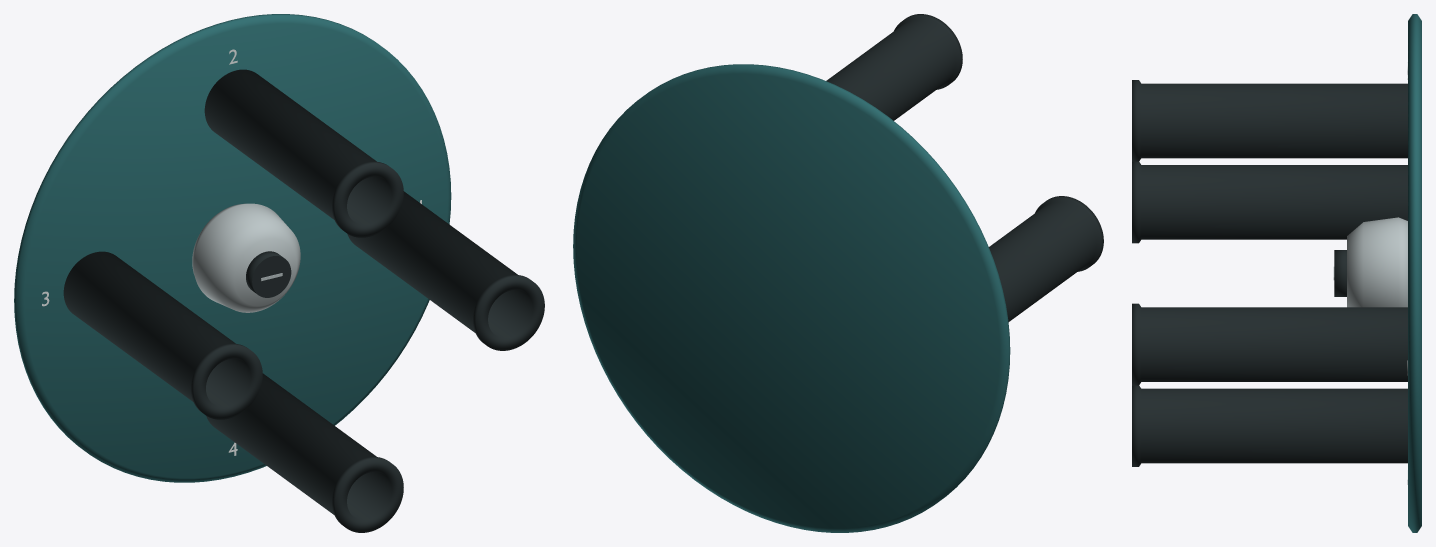
File: centrifuge_rotor.glb
3 views of the same model, side by side, from view 1: azimuth 30°, elevation 25°; view 2: azimuth 150°, elevation 25°; view 3: azimuth 270°, elevation 25° (orthographic). The views are drawn at different scales.
Visible parts, largest first — view 1: Centrifuge balanced rotor plate, Centrifuge C2 hollow sleeve, Centrifuge C3 hollow sleeve, Centrifuge C1 hollow sleeve, Centrifuge C4 hollow sleeve, Centrifuge central hub, Centrifuge hub fastener; view 2: Centrifuge balanced rotor plate, Centrifuge C3 hollow sleeve, Centrifuge C2 hollow sleeve; view 3: Centrifuge C2 hollow sleeve, Centrifuge C4 hollow sleeve, Centrifuge C1 hollow sleeve, Centrifuge C3 hollow sleeve, Centrifuge balanced rotor plate, Centrifuge central hub, Centrifuge hub fastener.
Boxes of the visible parts, x1,y1,x2,y2 form: Centrifuge balanced rotor plate: [14, 14, 451, 482]; Centrifuge C2 hollow sleeve: [204, 69, 403, 237]; Centrifuge C3 hollow sleeve: [63, 251, 262, 419]; Centrifuge C1 hollow sleeve: [347, 191, 544, 350]; Centrifuge C4 hollow sleeve: [206, 373, 403, 532]; Centrifuge central hub: [192, 203, 300, 312]; Centrifuge hub fastener: [246, 251, 291, 297]; Centrifuge balanced rotor plate: [573, 64, 1010, 532]; Centrifuge C3 hollow sleeve: [989, 196, 1103, 321]; Centrifuge C2 hollow sleeve: [826, 14, 962, 120]; Centrifuge C2 hollow sleeve: [1132, 80, 1407, 161]; Centrifuge C4 hollow sleeve: [1132, 385, 1407, 466]; Centrifuge C1 hollow sleeve: [1132, 303, 1407, 385]; Centrifuge C3 hollow sleeve: [1132, 161, 1407, 243]; Centrifuge balanced rotor plate: [1408, 14, 1421, 532]; Centrifuge central hub: [1347, 217, 1407, 307]; Centrifuge hub fastener: [1334, 250, 1346, 296].
Bounding box in the file's own units: 0.222 × 0.222 × 0.124.
